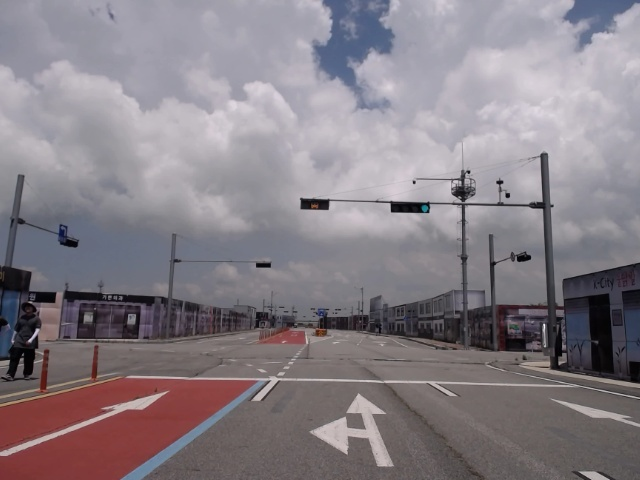straight_green_4: (391, 202, 431, 213)
